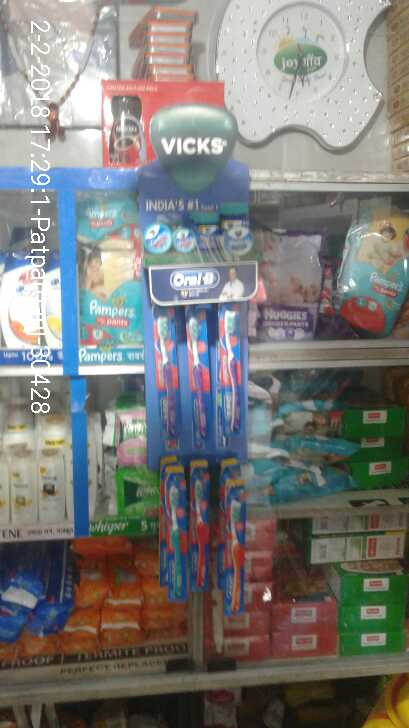beauty: (1, 253, 59, 361)
pharmacy: (336, 222, 406, 337), (183, 307, 215, 458), (219, 308, 248, 459), (155, 307, 185, 447), (161, 474, 193, 603), (219, 486, 246, 613), (192, 477, 215, 606)
